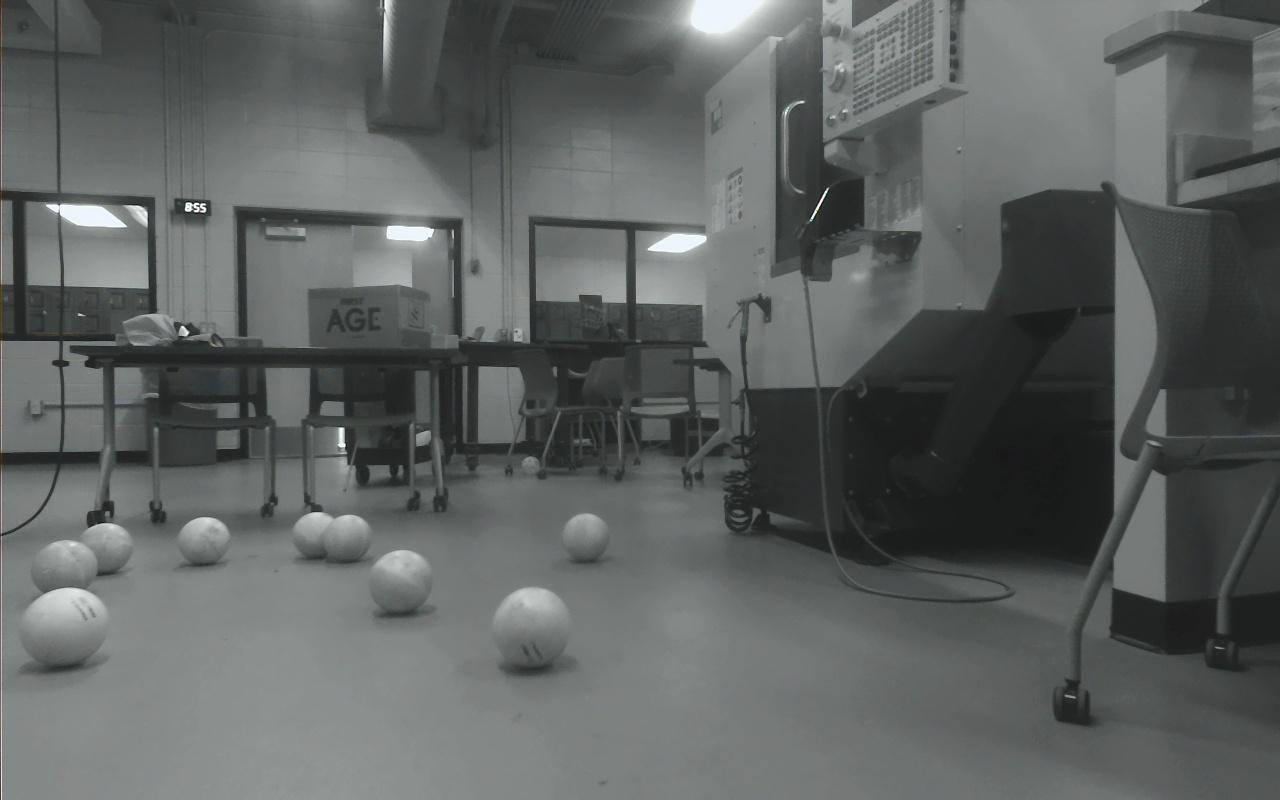Fuel: (18, 585, 110, 669), (490, 586, 571, 670), (367, 549, 433, 615), (31, 539, 99, 594), (79, 522, 134, 574), (177, 515, 230, 565), (320, 513, 371, 563), (562, 513, 611, 563), (291, 510, 337, 559)
